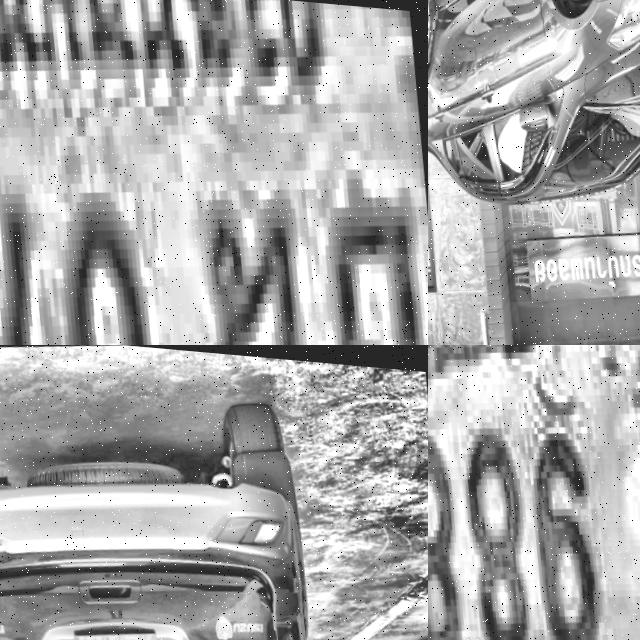license-plate: (0, 0, 428, 345), (428, 345, 640, 640), (70, 612, 164, 640)
